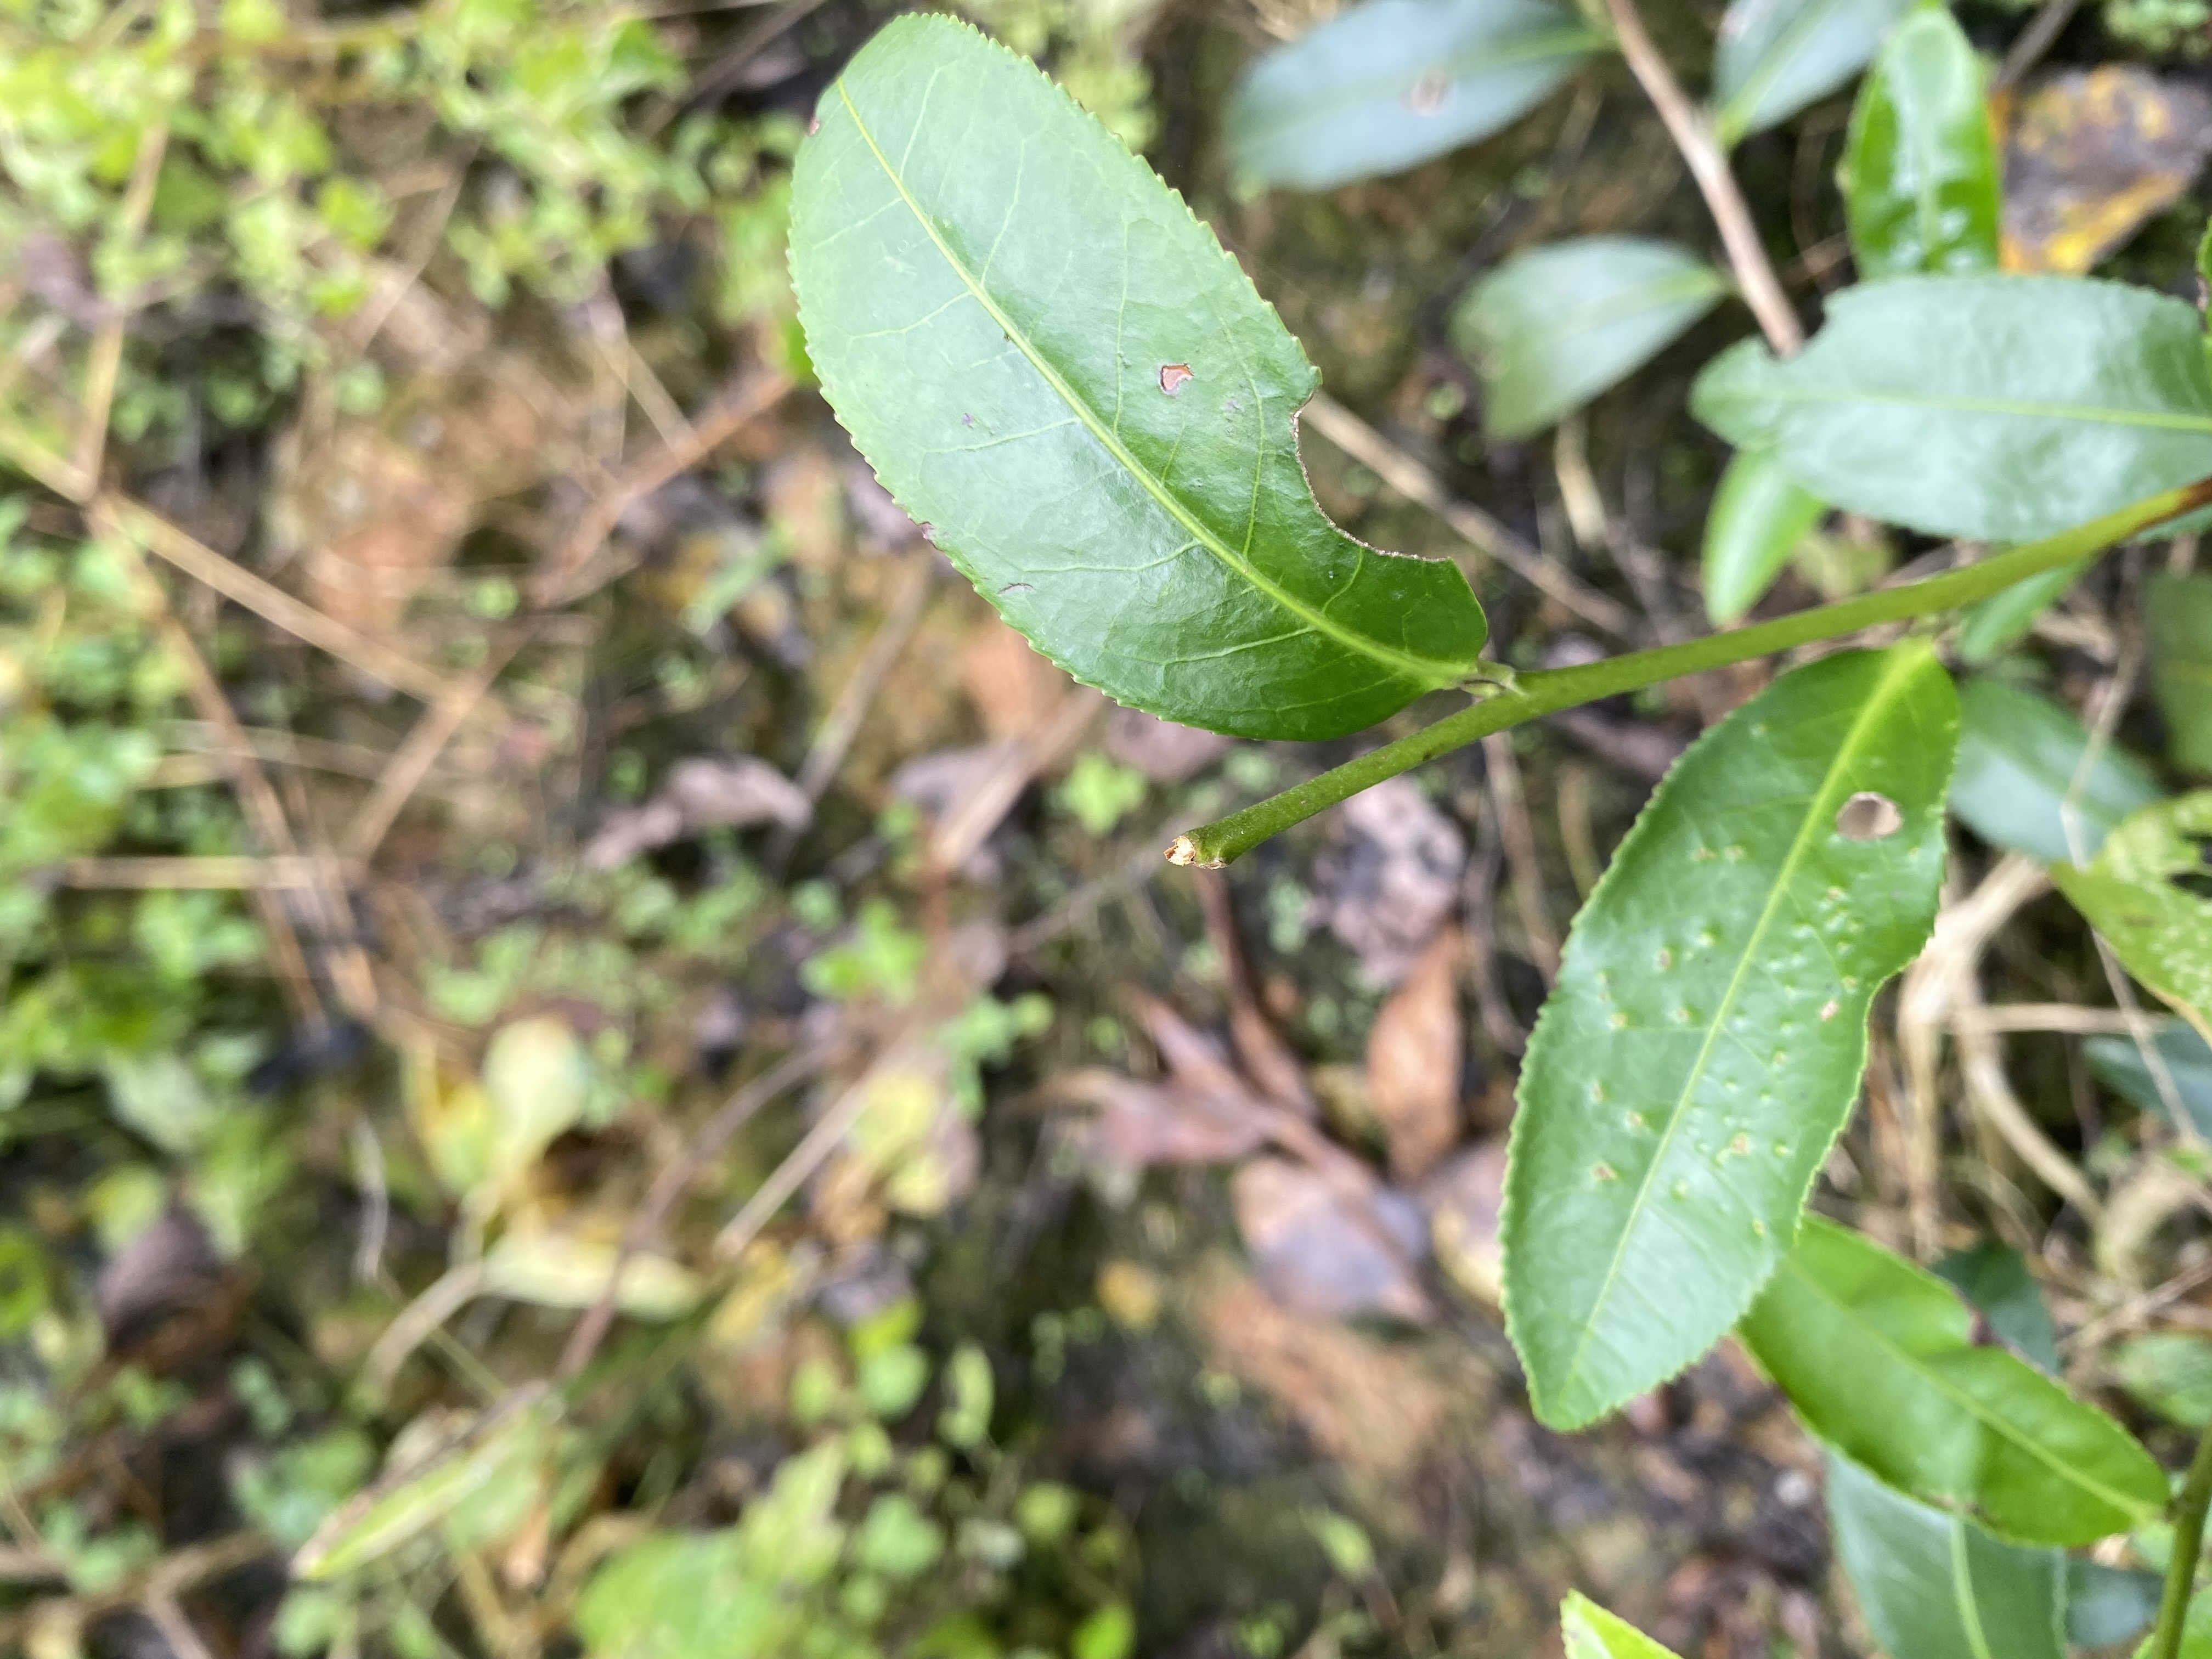chihuo_low: (789, 10, 1491, 744), (1494, 645, 1965, 1434), (1688, 274, 2212, 540)
